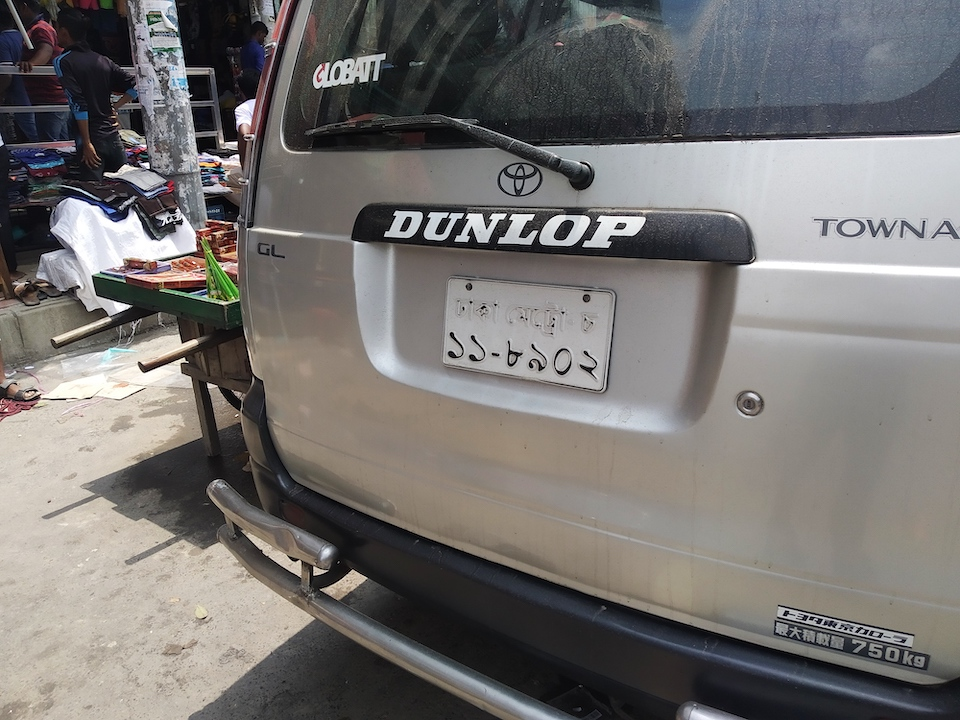registration_plate: (441, 275, 616, 395)
